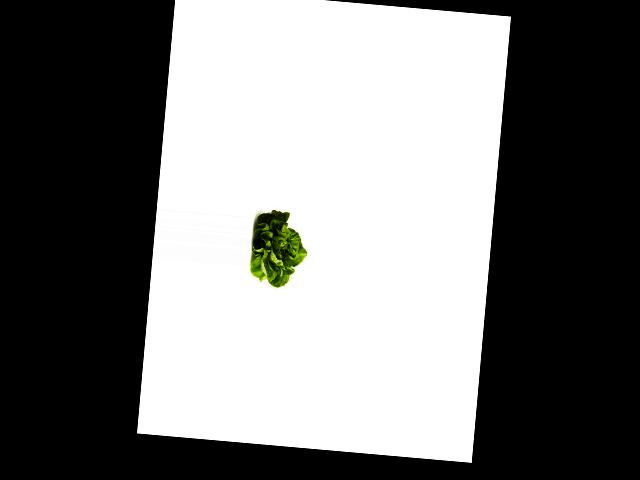lettuce: (247, 207, 310, 292)
